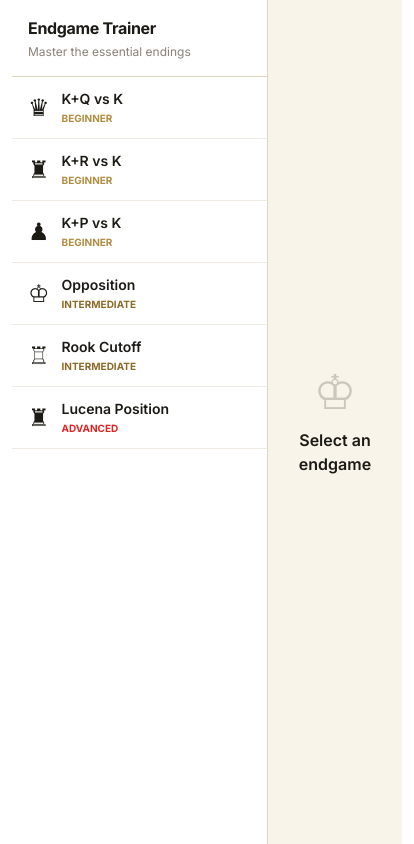
Test: EndgamesPage › selecting a scenario shows the board, task, par and max moves
Click the text "K+Q vs K" at (92,99), box [62, 89, 123, 109]
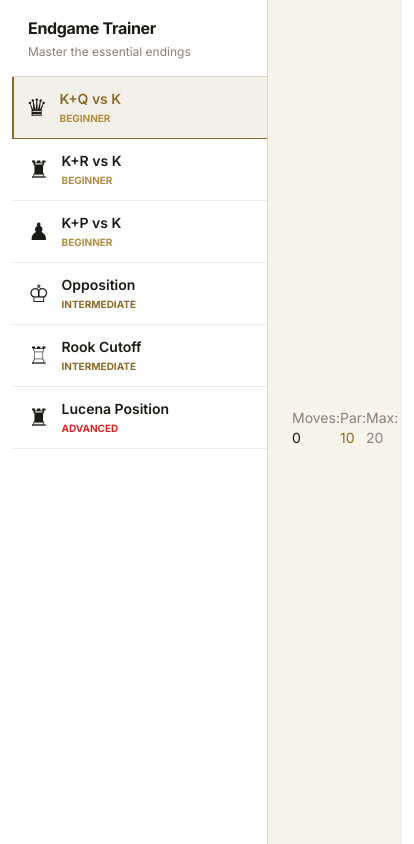
Expected: the element with class "justify-between" shows "Par: 10", [292, 408, 398, 448]
Expected: the element with class "justify-between" shows "Max: 20", [292, 408, 398, 448]
